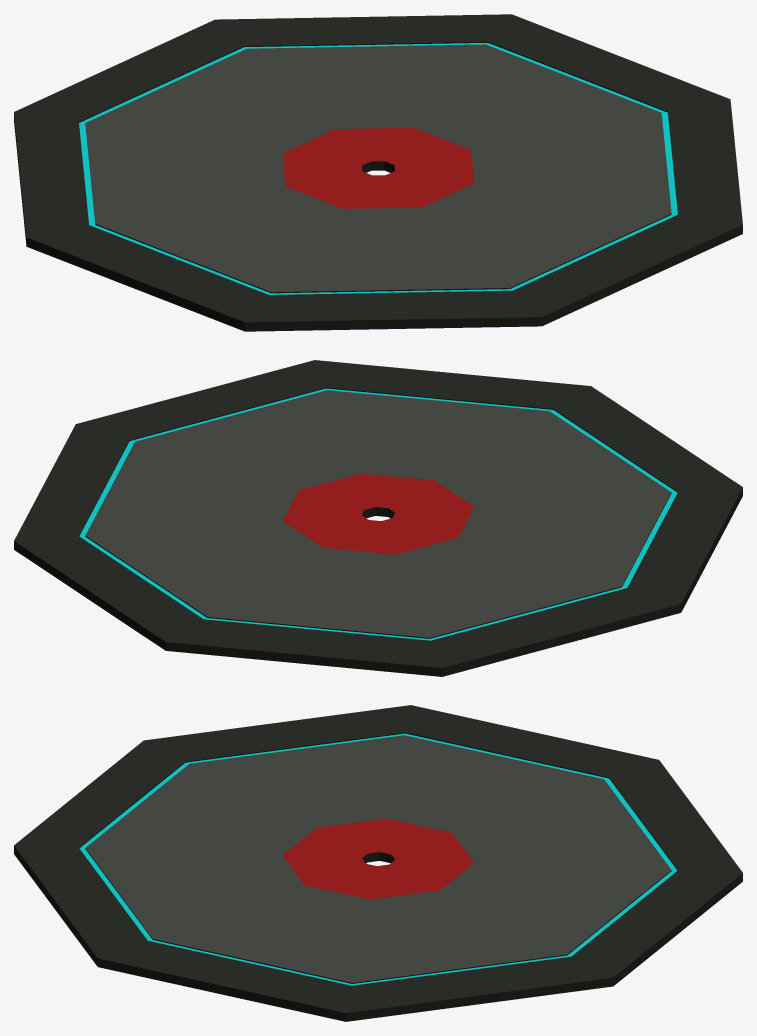
Rendered from Disk.glb.
The picture shows the model from 3 angles, top to bottom: view 1: azimuth 30°, elevation 25°; view 2: azimuth 150°, elevation 25°; view 3: azimuth 270°, elevation 25°; orthographic projection. The views are drawn at different scales.
Parts seen in each view (by area): view 1: disc; view 2: disc; view 3: disc.
Part boxes in pixels (bbox=[...]): disc: bbox=[14, 14, 742, 331]; disc: bbox=[14, 360, 742, 676]; disc: bbox=[14, 705, 742, 1021].
Size of the model in its own units: 0.3941 by 0.00524 by 0.3941.
Materials: 1 (1 with a texture image).
